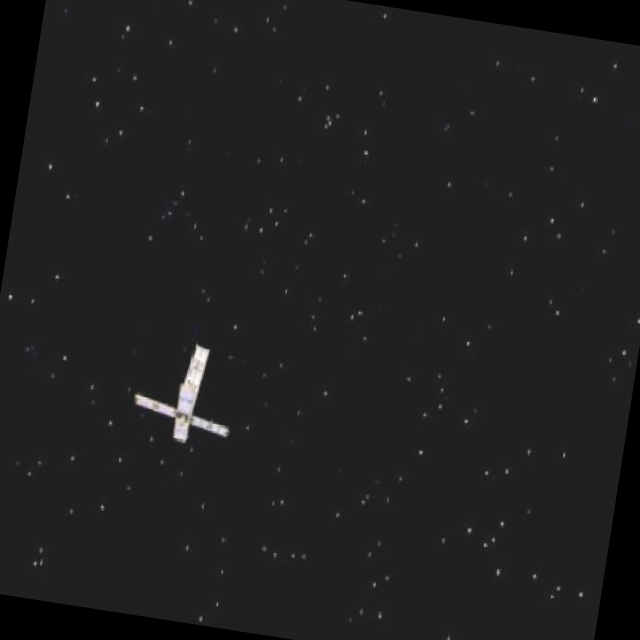satellite: (119, 341, 253, 465)
